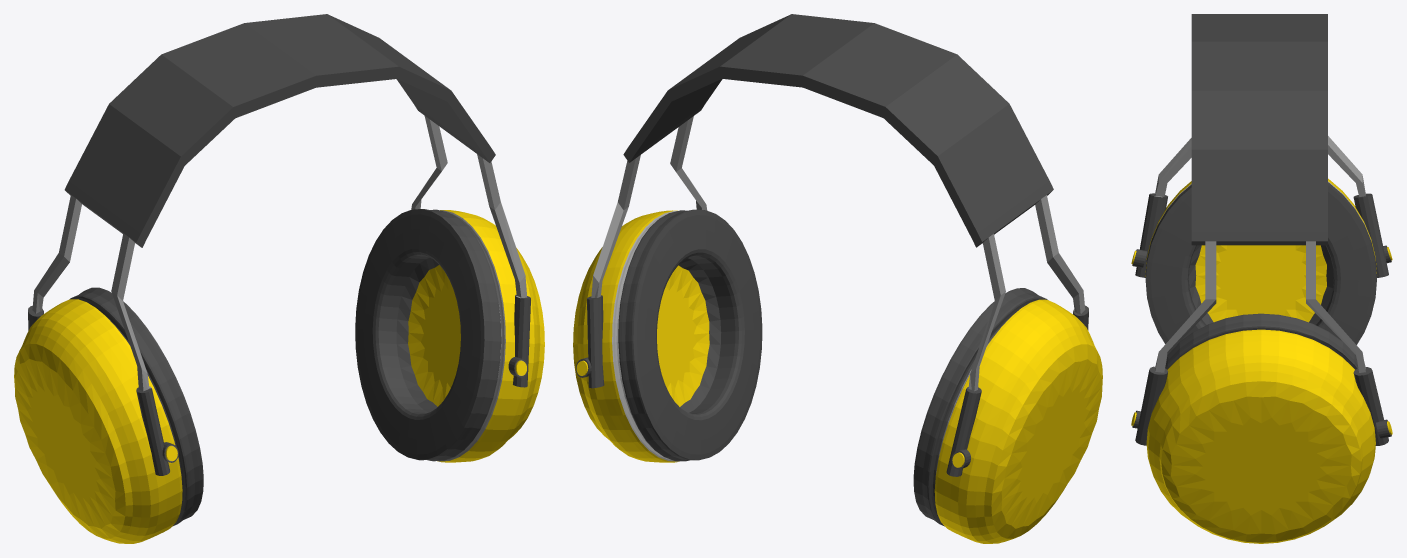
The model's file is earmuff.fbx.
The picture shows the model from 3 angles, left to right: view 1: azimuth 30°, elevation 25°; view 2: azimuth 150°, elevation 25°; view 3: azimuth 270°, elevation 25°; orthographic projection. The views are drawn at different scales.
Parts seen in each view (by area): view 1: earmuff; view 2: earmuff; view 3: earmuff.
Boxes of the visible parts, x1=… form: earmuff: x1=14, y1=14, x2=544, y2=543; earmuff: x1=573, y1=14, x2=1102, y2=543; earmuff: x1=1131, y1=14, x2=1392, y2=543.
Size of the model in its own units: 3.62 by 3.34 by 1.88.
